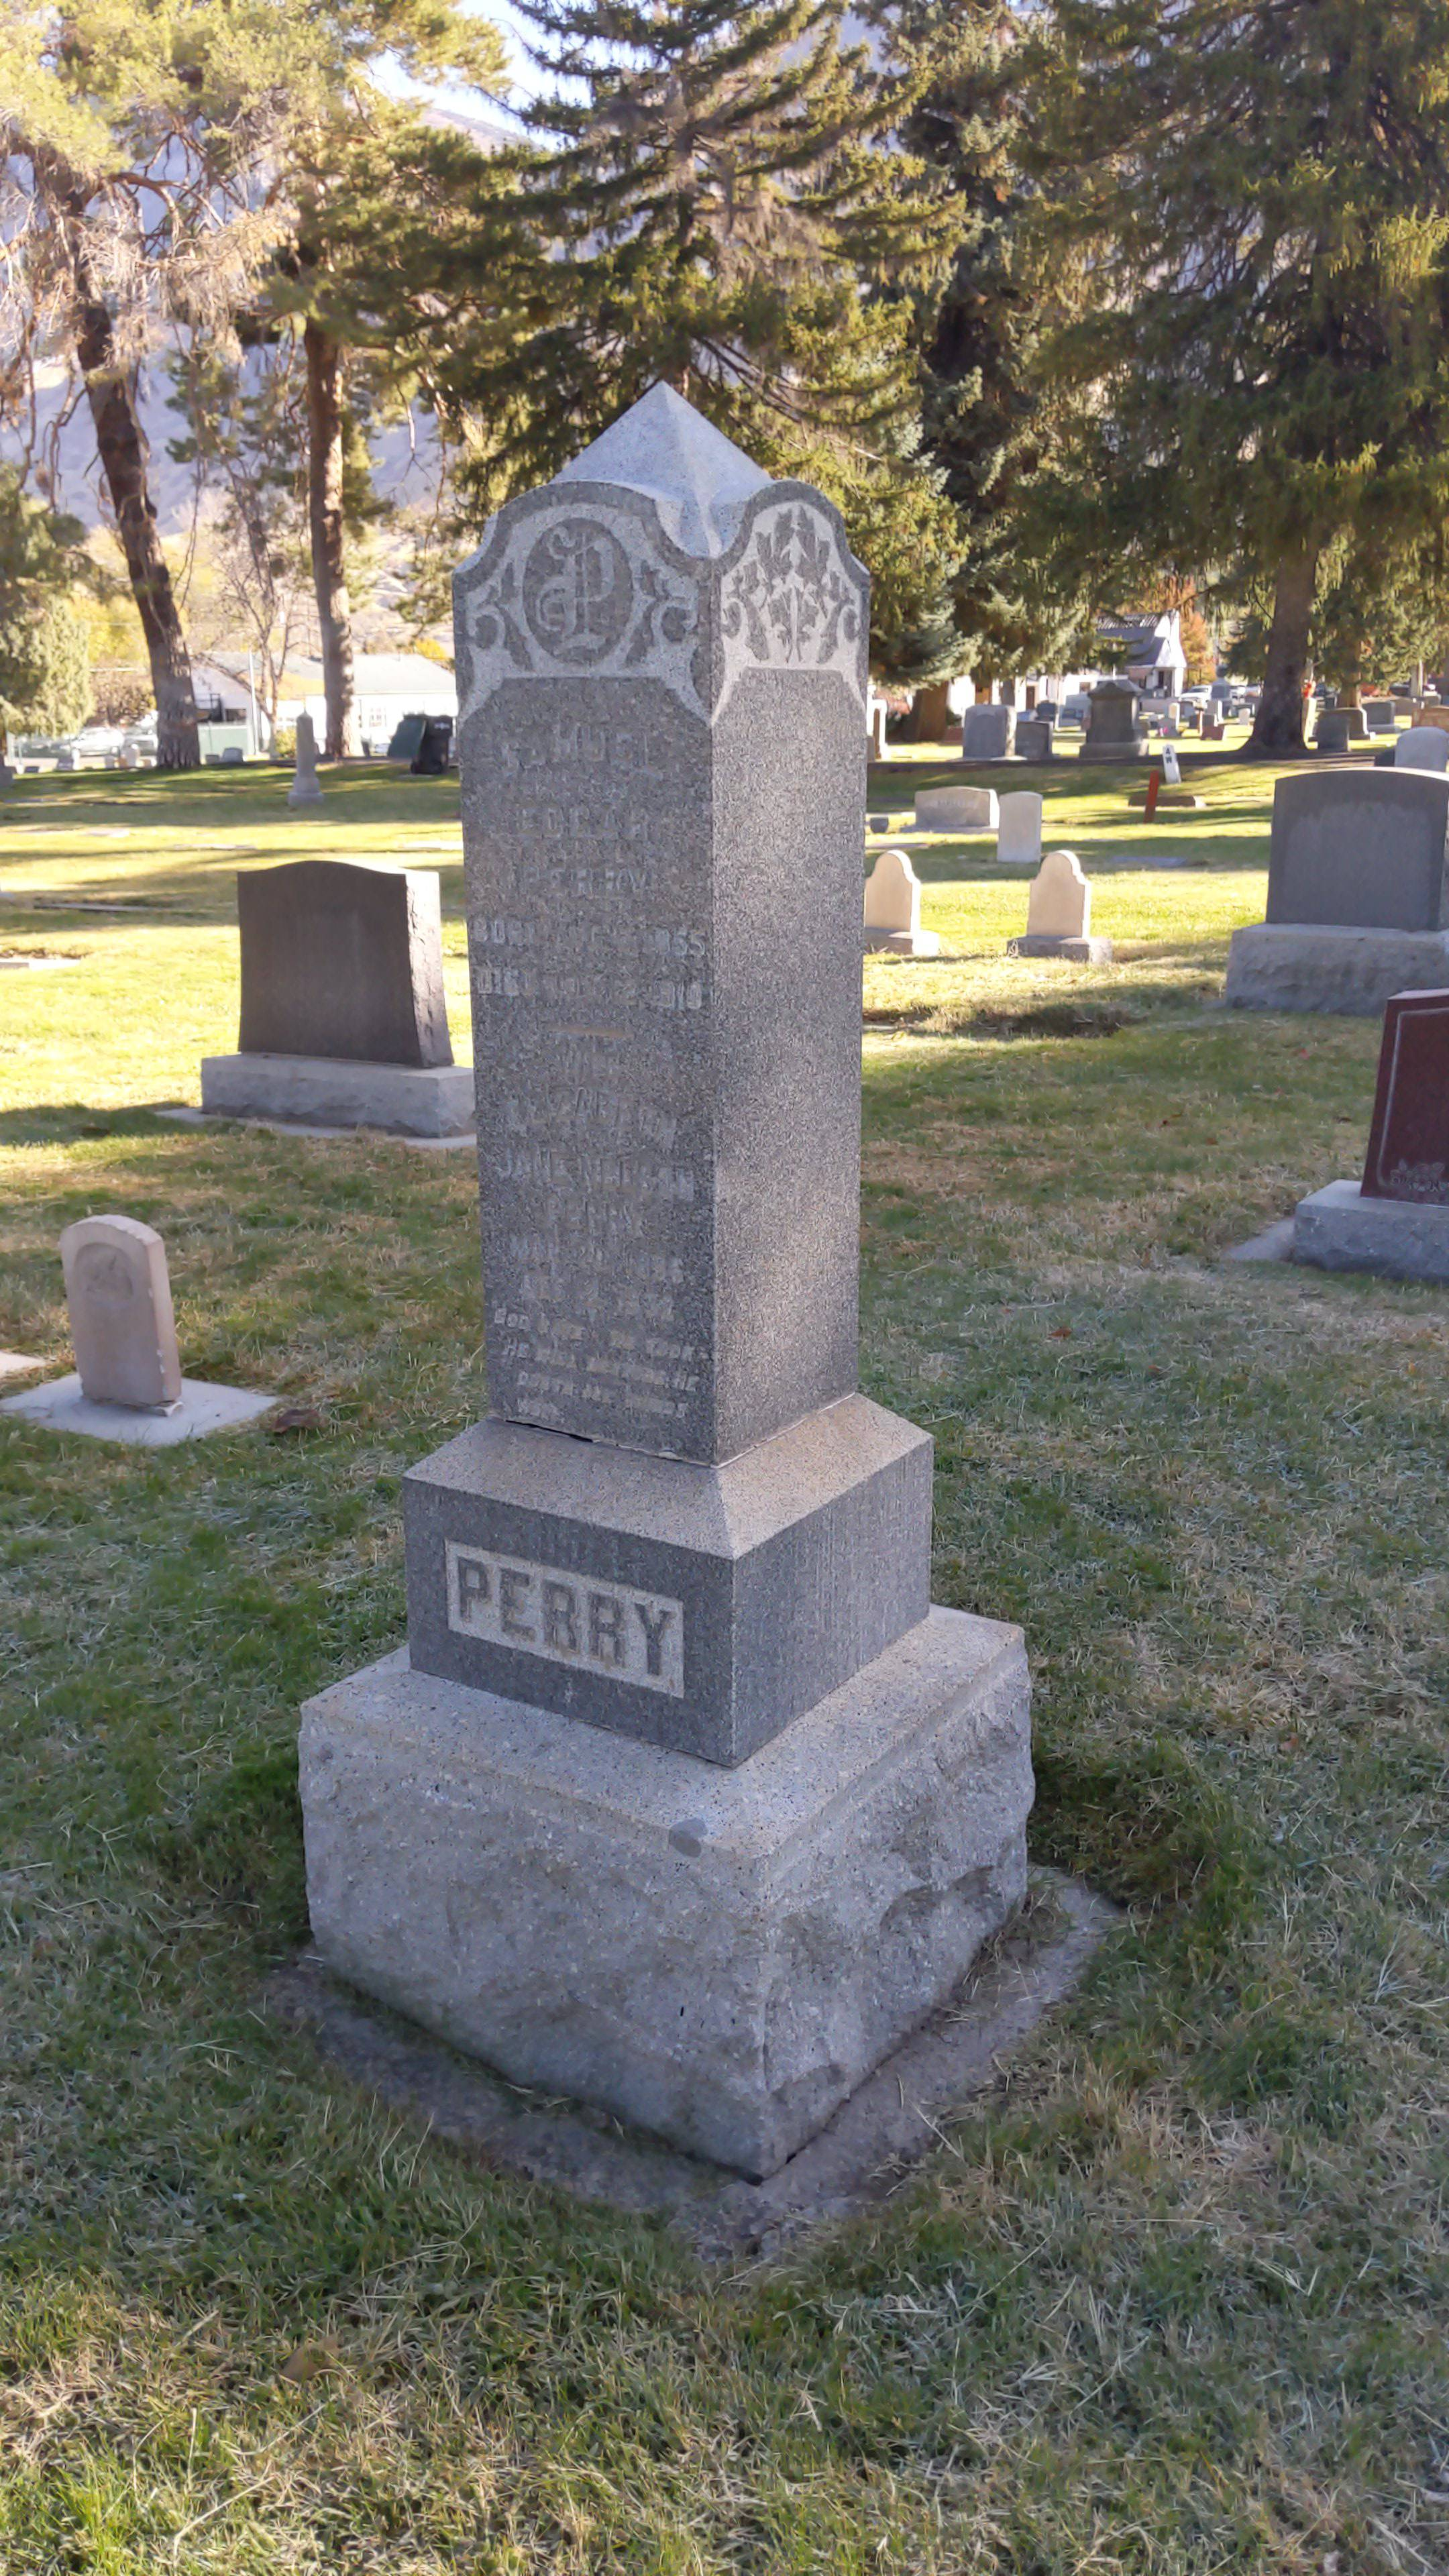obelisk: (396, 375, 931, 1766)
